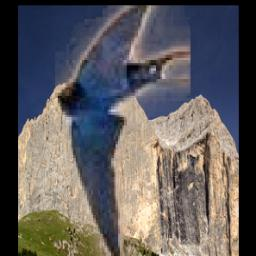Swallow: (56, 5, 191, 256)
